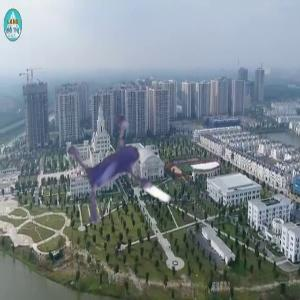drone: (44, 101, 202, 259)
